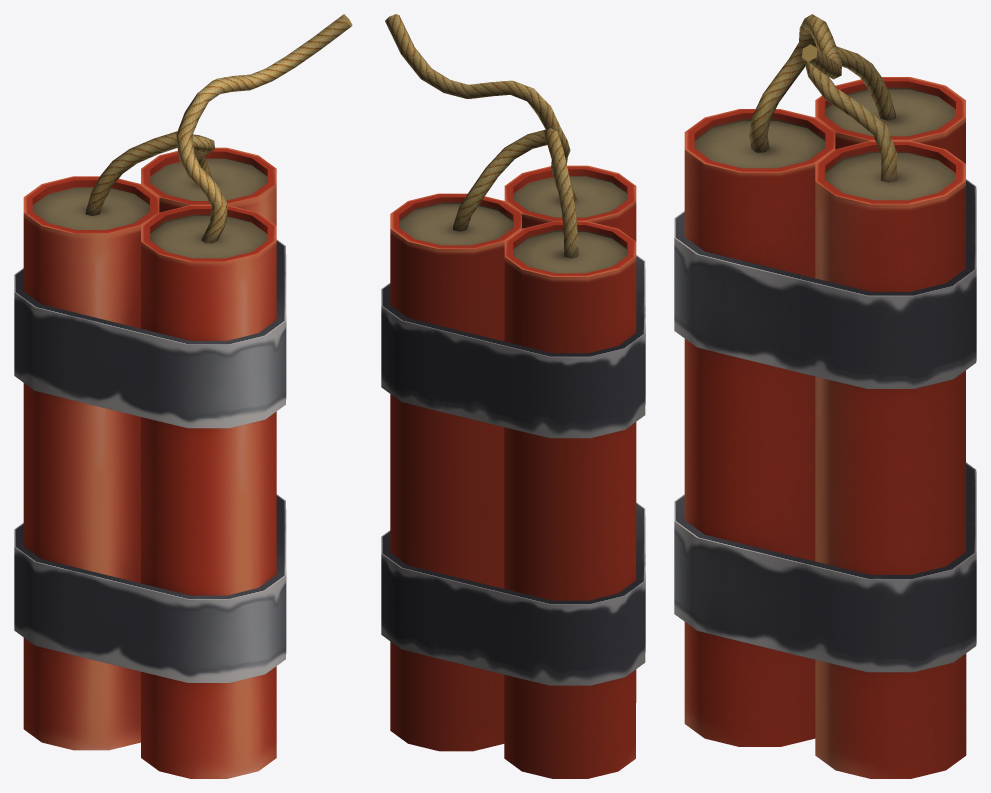
The model's file is bomb.fbx.
The picture shows the model from 3 angles, left to right: view 1: azimuth 30°, elevation 25°; view 2: azimuth 150°, elevation 25°; view 3: azimuth 270°, elevation 25°; orthographic projection. The views are drawn at different scales.
Parts seen in each view (by area): view 1: bomb; view 2: bomb; view 3: bomb.
Boxes of the visible parts, left/top/right/bottom form: bomb: left=14, top=14, right=352, bottom=778; bomb: left=381, top=14, right=645, bottom=778; bomb: left=674, top=14, right=976, bottom=778.
Size of the model in its own units: 14.96 by 33.37 by 12.11.
Materials: 1 (1 with a texture image).
